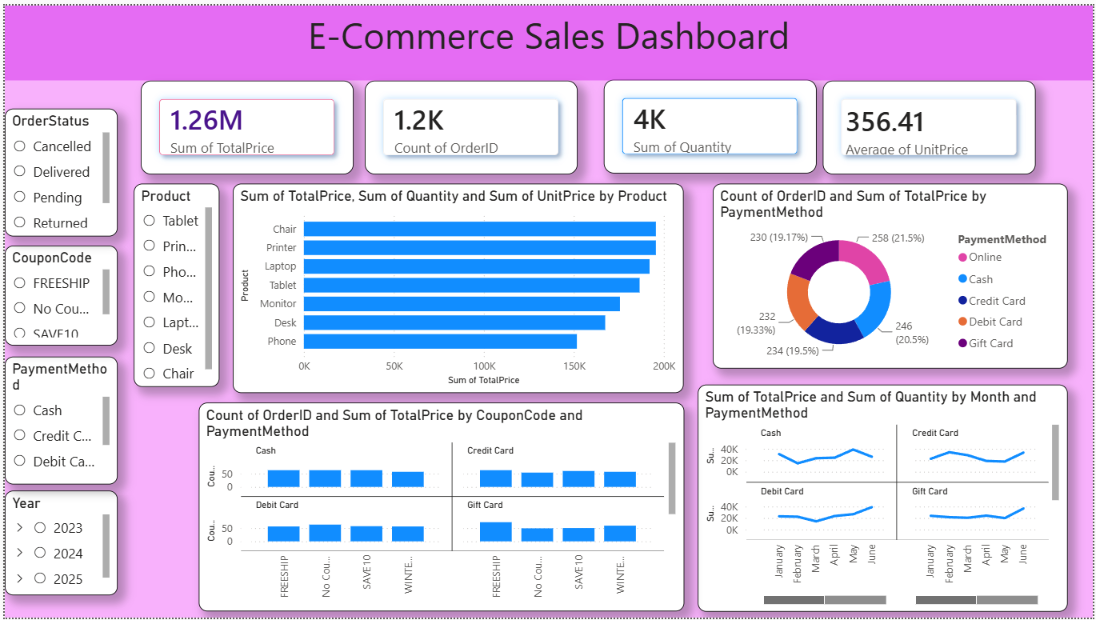

The dashboard page shown, as its layout file describes it:
{"tool":"powerbi","page":{"name":"Page 1","canvas":[1280,720],"ordinal":0},"visuals":[{"type":"cardVisual","fields":{"Data":["Sum(Cleaned_Dataset.TotalPrice)"]},"box":[160.5,88.4,250,110],"z":0},{"type":"cardVisual","fields":{"Data":["Count(Cleaned_Dataset.OrderID)"]},"box":[423.3,88.4,250,110],"z":1000},{"type":"cardVisual","fields":{"Data":["Sum(Cleaned_Dataset.Quantity)"]},"box":[704.7,87.2,250,110],"z":2000},{"type":"cardVisual","fields":{"Data":["Avg(Cleaned_Dataset.UnitPrice)"]},"box":[962.8,88.4,250,110],"z":3000},{"type":"textbox","box":[0,0,1280.4,87.9],"z":4000},{"type":"clusteredBarChart","fields":{"Category":["Cleaned_Dataset.Product"],"Y":["Sum(Cleaned_Dataset.TotalPrice)"]},"box":[268.6,209.3,530.2,246.5],"z":5000},{"type":"lineChart","fields":{"Category":["Cleaned_Dataset.Date.Variation.Date Hierarchy.Month"],"Y":["Sum(Cleaned_Dataset.TotalPrice)"],"Rows":["Cleaned_Dataset.PaymentMethod"]},"box":[815.1,445.4,434.9,267.4],"z":6000},{"type":"donutChart","fields":{"Category":["Cleaned_Dataset.PaymentMethod"],"Y":["CountNonNull(Cleaned_Dataset.OrderID)"]},"box":[832.6,209.3,417.4,217.4],"z":7000},{"type":"clusteredColumnChart","fields":{"Category":["Cleaned_Dataset.CouponCode"],"Y":["CountNonNull(Cleaned_Dataset.OrderID)"],"Rows":["Cleaned_Dataset.PaymentMethod"]},"box":[227.9,467.4,570.9,245.3],"z":8000},{"type":"listSlicer","fields":{"Values":["Cleaned_Dataset.Date.Variation.Date Hierarchy.Year","Cleaned_Dataset.Date.Variation.Date Hierarchy.Quarter","Cleaned_Dataset.Date.Variation.Date Hierarchy.Month","Cleaned_Dataset.Date.Variation.Date Hierarchy.Day"]},"box":[0,570.9,132.6,123.3],"z":9000},{"type":"listSlicer","fields":{"Values":["Cleaned_Dataset.PaymentMethod"]},"box":[0,412.8,132.6,150],"z":10000},{"type":"listSlicer","fields":{"Values":["Cleaned_Dataset.CouponCode"]},"box":[0,282.6,132.6,117.4],"z":11000},{"type":"listSlicer","fields":{"Values":["Cleaned_Dataset.OrderStatus"]},"box":[0,120.9,132.6,150],"z":12000},{"type":"listSlicer","fields":{"Values":["Cleaned_Dataset.Product"]},"box":[152.3,209.3,101.2,239.5],"z":13000}]}

Visuals, with their boxes in screenshot pixels (x1, y1, x2, y2), scaled from the page's 1280x720 canvas onto the 1096x620 screenshot:
cardVisual - Sum(Cleaned_Dataset.TotalPrice): 137,76,351,171
cardVisual - Count(Cleaned_Dataset.OrderID): 362,76,577,171
cardVisual - Sum(Cleaned_Dataset.Quantity): 603,75,817,170
cardVisual - Avg(Cleaned_Dataset.UnitPrice): 824,76,1038,171
textbox: 0,0,1095,76
clusteredBarChart - Cleaned_Dataset.Product x Sum(Cleaned_Dataset.TotalPrice): 230,180,684,392
lineChart - Cleaned_Dataset.Date.Variation.Date Hierarchy.Month x Sum(Cleaned_Dataset.TotalPrice): 698,384,1070,614
donutChart - Cleaned_Dataset.PaymentMethod x CountNonNull(Cleaned_Dataset.OrderID): 713,180,1070,367
clusteredColumnChart - Cleaned_Dataset.CouponCode x CountNonNull(Cleaned_Dataset.OrderID): 195,402,684,614
listSlicer - Cleaned_Dataset.Date.Variation.Date Hierarchy.Year x Cleaned_Dataset.Date.Variation.Date Hierarchy.Quarter: 0,492,114,598
listSlicer - Cleaned_Dataset.PaymentMethod: 0,355,114,485
listSlicer - Cleaned_Dataset.CouponCode: 0,243,114,344
listSlicer - Cleaned_Dataset.OrderStatus: 0,104,114,233
listSlicer - Cleaned_Dataset.Product: 130,180,217,386
